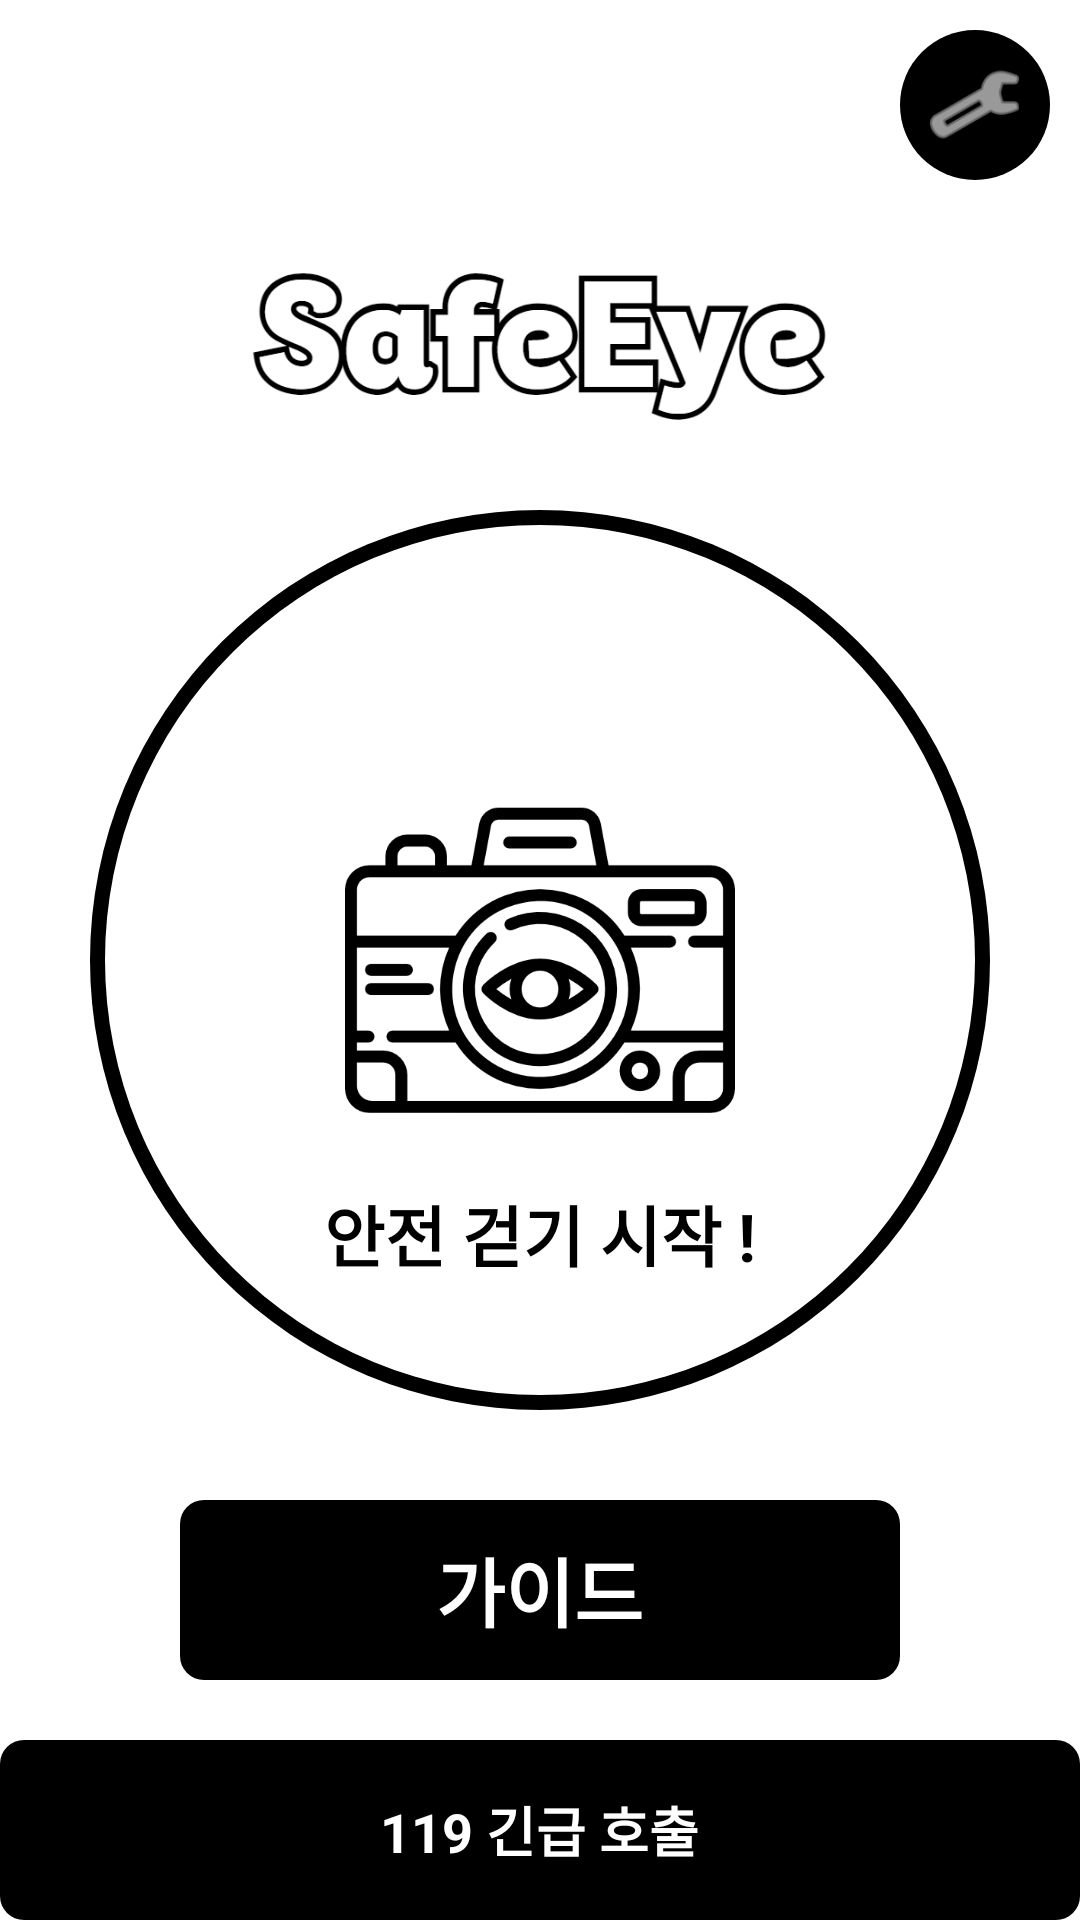

Where to tap for icons on this 1080 × 1920 app screen, as (x=x, y=y):
설정 아이콘: (x=974, y=104)
